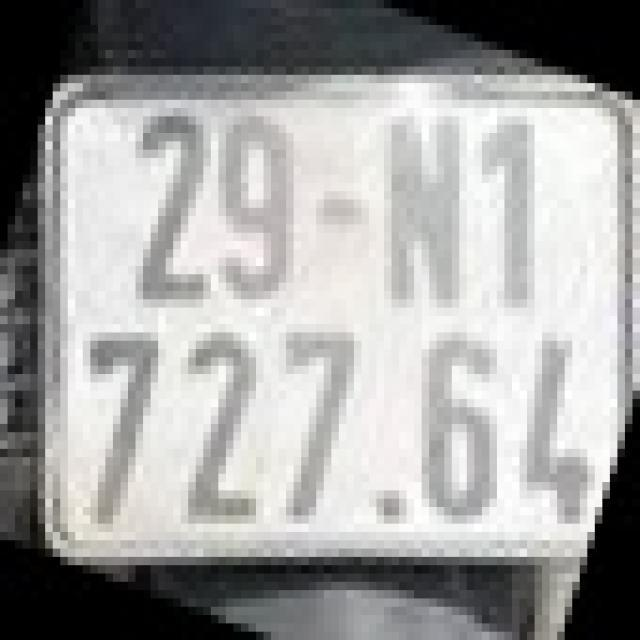1: (482, 116, 542, 308)
2: (180, 332, 264, 524), (128, 108, 211, 299)
4: (519, 332, 595, 524)
6: (414, 332, 504, 516)
7: (82, 324, 166, 524), (278, 324, 354, 524)
9: (218, 108, 294, 299)
N: (384, 108, 467, 308)
